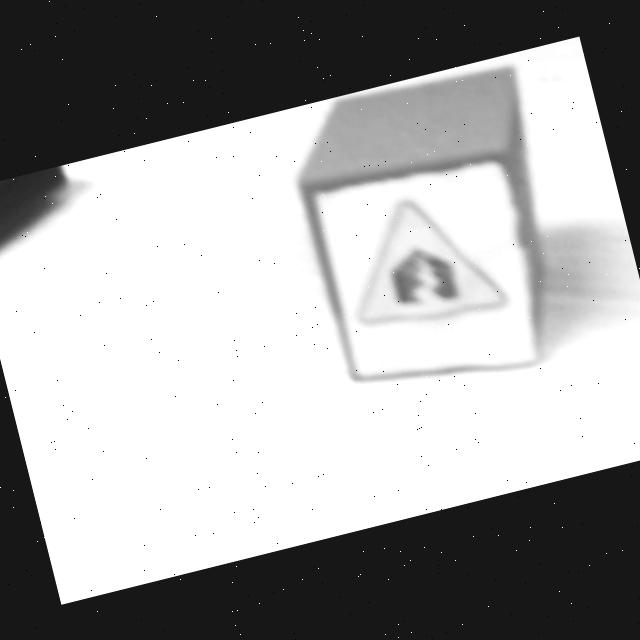Earthquake: (332, 180, 512, 343), (355, 199, 509, 327)
